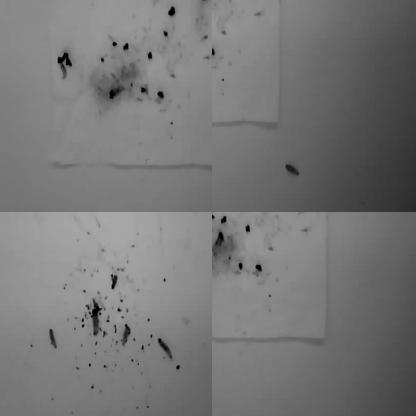PtecticusTenebrifer: (158, 338, 172, 360), (284, 161, 302, 178), (48, 326, 58, 350), (121, 325, 130, 347), (92, 308, 99, 336), (61, 62, 70, 81), (160, 212, 180, 220), (212, 6, 218, 31), (266, 0, 277, 11), (241, 0, 256, 8), (253, 0, 267, 8), (390, 0, 408, 6), (212, 338, 218, 355), (269, 212, 280, 221), (111, 212, 123, 220), (112, 275, 118, 290), (280, 212, 295, 218), (220, 0, 235, 5), (212, 8, 216, 25), (1, 212, 17, 216), (212, 15, 215, 36), (212, 56, 218, 66), (212, 221, 218, 231), (212, 212, 219, 218)
